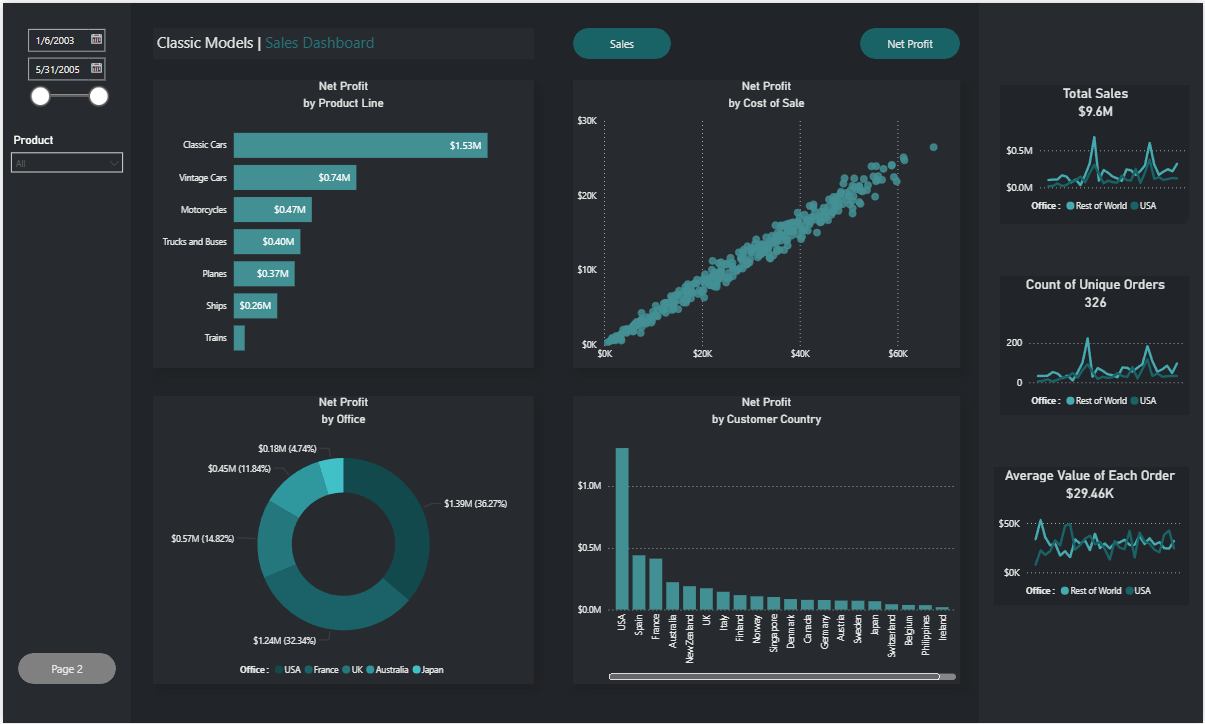

The page's visual inventory and layout, read from the dashboard file:
{"tool":"powerbi","page":{"name":"Sales Overview - Page 1","canvas":[1500,900],"ordinal":0},"visuals":[{"type":"shape","box":[0,0,160,900],"z":0},{"type":"shape","box":[1220,0,280,900],"z":1000},{"type":"shape","box":[1245.8,102.5,232.5,173.8],"z":2000},{"type":"shape","box":[1245.8,341.2,232.5,173.8],"z":3000},{"type":"shape","box":[1242.1,580,240,172.5],"z":4000},{"type":"card","title":"Total Sales","fields":{"Values":["Sum(sales_data_for_power_bi.sales_value)"]},"box":[1248.8,102.5,233.8,45],"z":5000},{"type":"card","title":"Count of Unique Orders","fields":{"Values":["Count(sales_data_for_power_bi.orderNumber)"]},"box":[1248.8,341.2,233.8,45],"z":6000},{"type":"card","title":"Average Value of Each Order ","fields":{"Values":["sales_data_for_power_bi.Average Sales Value per Order"]},"box":[1238.8,580,240,43.8],"z":7000},{"type":"lineChart","fields":{"Y":["Sum(sales_data_for_power_bi.sales_value)"],"Category":["sales_data_for_power_bi.orderDate.Variation.Date Hierarchy.Year","sales_data_for_power_bi.orderDate.Variation.Date Hierarchy.Quarter","sales_data_for_power_bi.orderDate.Variation.Date Hierarchy.Month"],"Series":["sales_data_for_power_bi.Office Grouped"]},"box":[1248.8,142.5,233.8,128.8],"z":8000},{"type":"lineChart","fields":{"Y":["Count(sales_data_for_power_bi.sales_value)"],"Category":["sales_data_for_power_bi.orderDate.Variation.Date Hierarchy.Year","sales_data_for_power_bi.orderDate.Variation.Date Hierarchy.Quarter","sales_data_for_power_bi.orderDate.Variation.Date Hierarchy.Month"],"Series":["sales_data_for_power_bi.Office Grouped"]},"box":[1248.8,386.2,233.8,128.8],"z":9000},{"type":"lineChart","fields":{"Category":["sales_data_for_power_bi.orderDate.Variation.Date Hierarchy.Year","sales_data_for_power_bi.orderDate.Variation.Date Hierarchy.Quarter","sales_data_for_power_bi.orderDate.Variation.Date Hierarchy.Month"],"Series":["sales_data_for_power_bi.Office Grouped"],"Y":["sales_data_for_power_bi.Average Sales Value per Order"]},"box":[1238.8,623.8,240,128.8],"z":10000},{"type":"clusteredBarChart","fields":{"Y":["Table.Selected Metric"],"Category":["sales_data_for_power_bi.productLine"]},"box":[187.5,96.2,476.2,360],"z":11000},{"type":"actionButton","box":[1071.2,31.2,125,38.8],"z":12000},{"type":"actionButton","box":[712.5,31.2,122.5,38.8],"z":13000},{"type":"scatterChart","fields":{"Category":["sales_data_for_power_bi.orderNumber"],"X":["Sum(sales_data_for_power_bi.sales_value)"],"Y":["Table.Selected Metric"]},"box":[712.5,96.2,483.8,360],"z":15000},{"type":"clusteredColumnChart","fields":{"Category":["sales_data_for_power_bi.customer_country"],"Y":["Table.Selected Metric"]},"box":[712.5,491.2,483.8,360],"z":16000},{"type":"donutChart","fields":{"Y":["Table.Selected Metric"],"Category":["sales_data_for_power_bi.office_country"]},"box":[187.5,491.2,476.2,360],"z":17000},{"type":"textbox","box":[187.5,31.2,476.2,38.8],"z":18000},{"type":"actionButton","box":[18.8,812.5,122.5,38.8],"z":19000},{"type":"slicer","fields":{"Values":["sales_data_for_power_bi.orderDate"]},"box":[18.8,22.5,122.5,125],"z":20000},{"type":"slicer","fields":{"Values":["sales_data_for_power_bi.productName"]},"box":[0,158.8,160,356.2],"z":21000}]}

Visuals, with their boxes in screenshot pixels (x1, y1, x2, y2), scaled from the page's 1500x900 canvas onto the 1205x724 screenshot:
shape: 0 0 129 723
shape: 980 0 1204 723
shape: 1001 82 1188 222
shape: 1001 274 1188 414
shape: 998 467 1191 605
"Total Sales" card: 1003 82 1191 119
"Count of Unique Orders" card: 1003 274 1191 311
"Average Value of Each Order " card: 995 467 1188 502
lineChart - Sum(sales_data_for_power_bi.sales_value) x sales_data_for_power_bi.orderDate.Variation.Date Hierarchy.Year: 1003 115 1191 218
lineChart - Count(sales_data_for_power_bi.sales_value) x sales_data_for_power_bi.orderDate.Variation.Date Hierarchy.Year: 1003 311 1191 414
lineChart - sales_data_for_power_bi.orderDate.Variation.Date Hierarchy.Year x sales_data_for_power_bi.orderDate.Variation.Date Hierarchy.Quarter: 995 502 1188 605
clusteredBarChart - Table.Selected Metric x sales_data_for_power_bi.productLine: 151 77 533 367
actionButton: 861 25 961 56
actionButton: 572 25 671 56
scatterChart - sales_data_for_power_bi.orderNumber x Sum(sales_data_for_power_bi.sales_value): 572 77 961 367
clusteredColumnChart - sales_data_for_power_bi.customer_country x Table.Selected Metric: 572 395 961 685
donutChart - Table.Selected Metric x sales_data_for_power_bi.office_country: 151 395 533 685
textbox: 151 25 533 56
actionButton: 15 654 114 685
slicer - sales_data_for_power_bi.orderDate: 15 18 114 119
slicer - sales_data_for_power_bi.productName: 0 128 129 414
